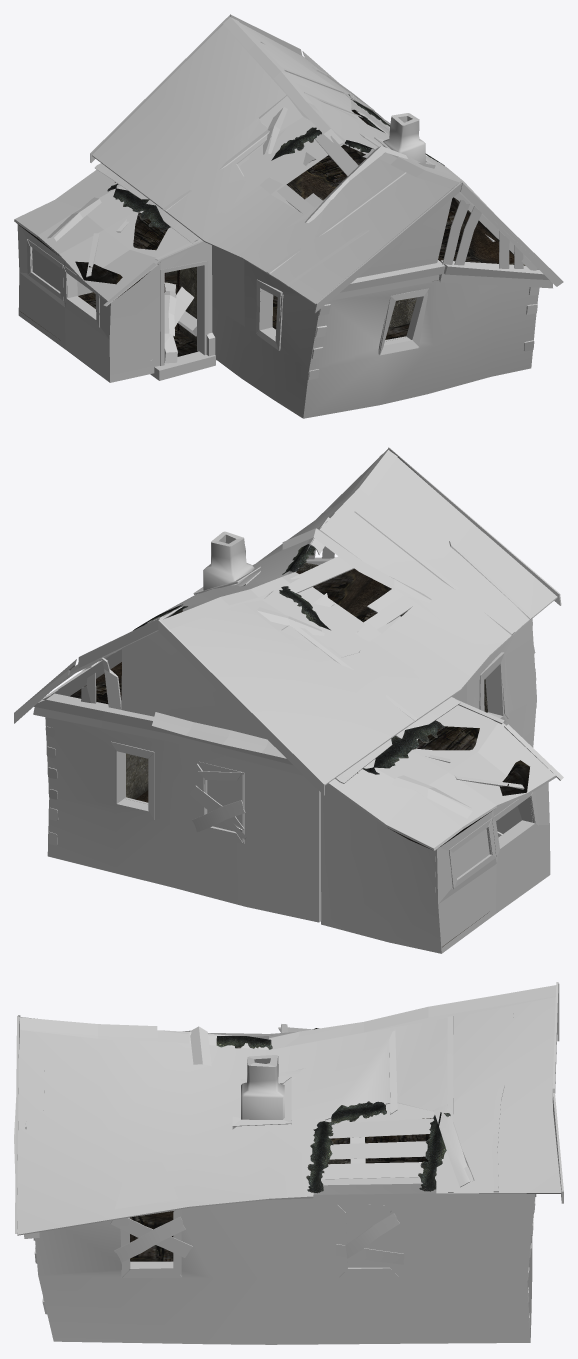
Rendered from HutDamage.FBX.
3 renders of one model, top to bottom at view 1: azimuth 30°, elevation 25°; view 2: azimuth 150°, elevation 25°; view 3: azimuth 270°, elevation 25°, orthographic. The views are drawn at different scales.
Visible parts, largest first — view 1: Hut, Inside, HutDamDecal; view 2: Hut, Inside, HutDamDecal; view 3: Hut, HutDamDecal, Inside.
Part boxes in pixels (x1,y1,x2,y2): Hut: (14, 14, 563, 418); Inside: (17, 109, 525, 356); HutDamDecal: (107, 94, 444, 231); Hut: (14, 447, 563, 953); Inside: (70, 562, 529, 947); HutDamDecal: (133, 544, 444, 774); Hut: (14, 982, 563, 1344); HutDamDecal: (216, 1028, 450, 1193); Inside: (130, 1118, 432, 1261).
Size of the model in its own units: 6.2 by 4.05 by 6.61.
